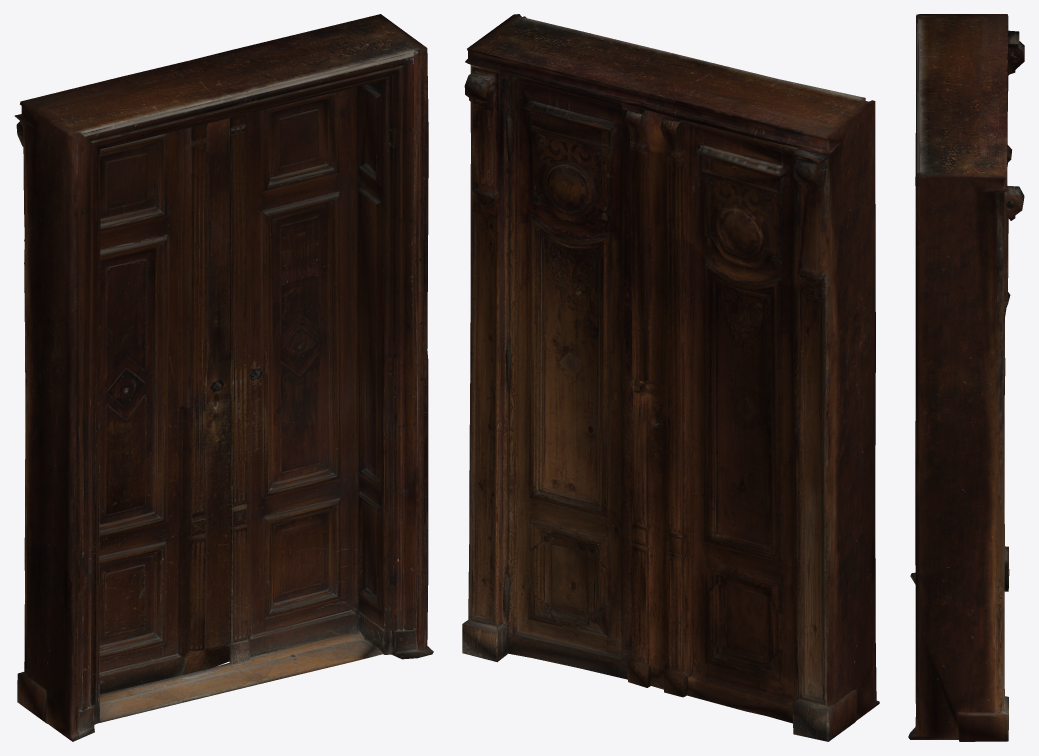
The model's file is Modular Wooden Door_LOD5__ugywdfqdw.gltf.
3 renders of one model, left to right at view 1: azimuth 30°, elevation 25°; view 2: azimuth 150°, elevation 25°; view 3: azimuth 270°, elevation 25°, orthographic. The views are drawn at different scales.
Visible parts, largest first — view 1: Aset_modular_medieval_M_ugywdfqdw_01_LOD5, Aset_modular_medieval_M_ugywdfqdw_00_LOD5; view 2: Aset_modular_medieval_M_ugywdfqdw_01_LOD5, Aset_modular_medieval_M_ugywdfqdw_00_LOD5; view 3: Aset_modular_medieval_M_ugywdfqdw_01_LOD5.
Boxes of the visible parts, x1,y1,x2,y2 form: Aset_modular_medieval_M_ugywdfqdw_01_LOD5: [14, 14, 433, 741]; Aset_modular_medieval_M_ugywdfqdw_00_LOD5: [99, 118, 230, 694]; Aset_modular_medieval_M_ugywdfqdw_01_LOD5: [462, 14, 879, 741]; Aset_modular_medieval_M_ugywdfqdw_00_LOD5: [625, 110, 799, 723]; Aset_modular_medieval_M_ugywdfqdw_01_LOD5: [908, 14, 1024, 741].
Size of the model in its own units: 255 by 401 by 75.21.
1 material, 1 textured.
